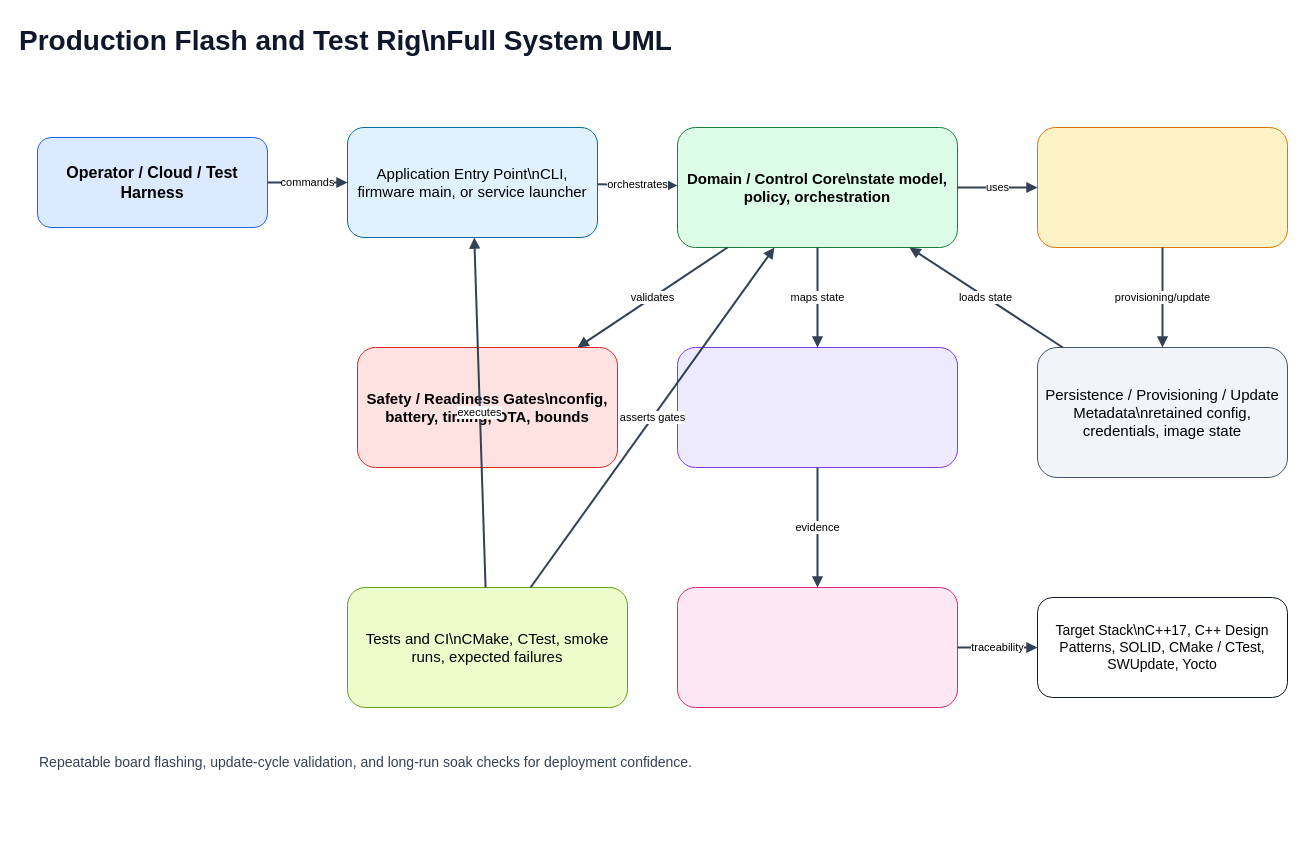
This 1305x844 diagram has some shape labels left out. The shapes that lost their labels are listed below. From the top down, each one's box as (x1, y1, x2, y2) in pixels, then its label:
(1036, 126, 1288, 248): Hardware and Simulator Adapters\nsensors, buses, files, transports
(676, 346, 958, 468): Telemetry and Evidence\nJSON, reports, logs, measurements
(676, 586, 958, 708): Documentation Package\nREADME, architecture, validation plan, UML
